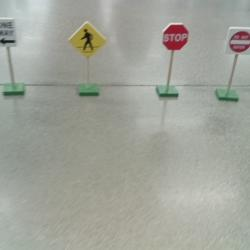do_not_enter: (224, 27, 250, 54)
one_way: (0, 17, 18, 47)
pedestrian_crossing: (68, 21, 107, 58)
stop: (162, 22, 189, 51)
